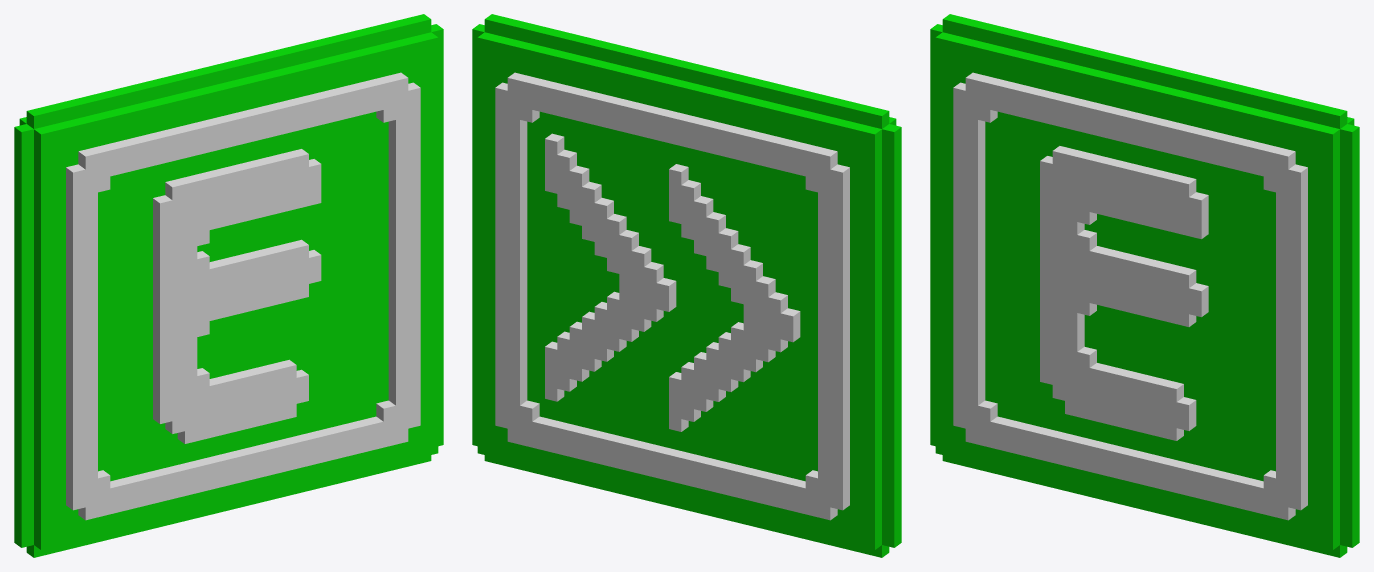
File: powerup_evasion.fbx
3 renders of one model, left to right at view 1: azimuth 30°, elevation 25°; view 2: azimuth 150°, elevation 25°; view 3: azimuth 330°, elevation 25°, orthographic.
Visible parts, largest first — view 1: powerup_evasion; view 2: powerup_evasion; view 3: powerup_evasion.
Part boxes in pixels (box(x1,y1,x2,y2)): powerup_evasion: box(14, 14, 443, 557); powerup_evasion: box(472, 14, 901, 557); powerup_evasion: box(930, 14, 1359, 557).
Size of the model in its own units: 1.05 by 1.05 by 0.155.
